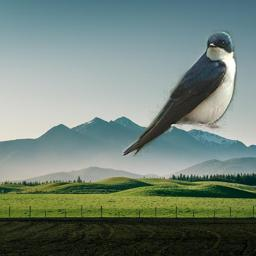Swallow: (122, 30, 237, 157)
